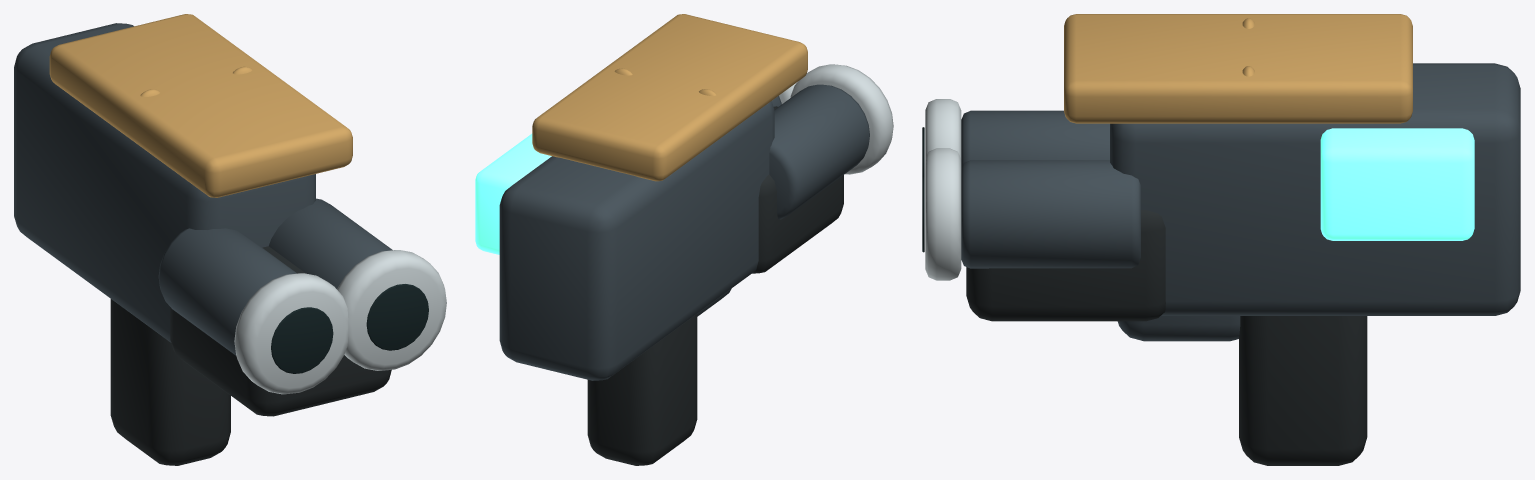
The model's file is shotgun_wide.t4.glb.
3 renders of one model, left to right at view 1: azimuth 30°, elevation 25°; view 2: azimuth 150°, elevation 25°; view 3: azimuth 270°, elevation 25°, orthographic. The views are drawn at different scales.
Visible parts, largest first — view 1: weapon_right__forged_bluelead_steel__protected, weapon_right__worn_warm_brass__protected, weapon_right__charcoal_rubber__protected, weapon_right__honed_steel_edge__protected, weapon_right__eye_socket__protected; view 2: weapon_right__forged_bluelead_steel__protected, weapon_right__worn_warm_brass__protected, weapon_right__charcoal_rubber__protected, weapon_right__honed_steel_edge__protected, weapon_right__mint_reticle__protected; view 3: weapon_right__forged_bluelead_steel__protected, weapon_right__worn_warm_brass__protected, weapon_right__charcoal_rubber__protected, weapon_right__mint_reticle__protected, weapon_right__honed_steel_edge__protected.
Part boxes in pixels (box(x1,y1,x2,y2)): weapon_right__forged_bluelead_steel__protected: box(14, 23, 392, 355); weapon_right__worn_warm_brass__protected: box(49, 14, 352, 197); weapon_right__charcoal_rubber__protected: box(110, 246, 391, 465); weapon_right__honed_steel_edge__protected: box(234, 250, 446, 394); weapon_right__eye_socket__protected: box(271, 284, 428, 373); weapon_right__forged_bluelead_steel__protected: box(499, 84, 869, 380); weapon_right__worn_warm_brass__protected: box(532, 14, 807, 181); weapon_right__charcoal_rubber__protected: box(587, 106, 843, 465); weapon_right__honed_steel_edge__protected: box(779, 64, 893, 174); weapon_right__mint_reticle__protected: box(475, 133, 551, 254); weapon_right__forged_bluelead_steel__protected: box(961, 63, 1520, 341); weapon_right__worn_warm_brass__protected: box(1064, 14, 1412, 123); weapon_right__charcoal_rubber__protected: box(966, 210, 1367, 465); weapon_right__mint_reticle__protected: box(1320, 128, 1474, 240); weapon_right__honed_steel_edge__protected: box(925, 99, 961, 280).
Bounding box in the file's own units: 0.2641 × 0.4685 × 0.618.
